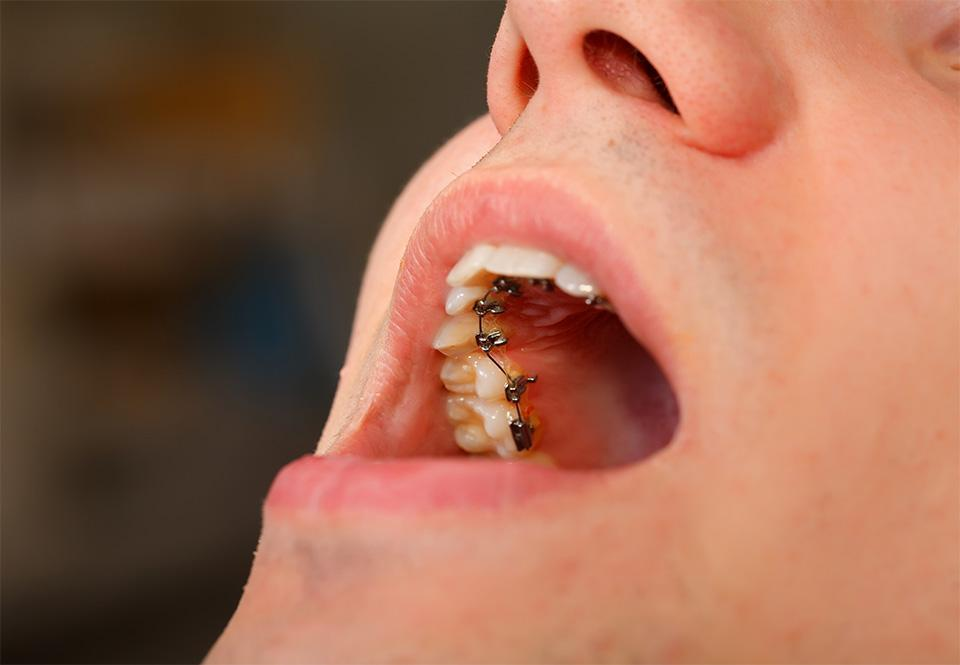Braces: (470, 268, 612, 450)
